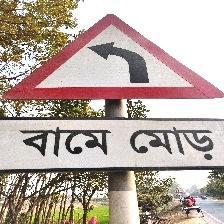Left-Turn: (1, 11, 223, 170)
